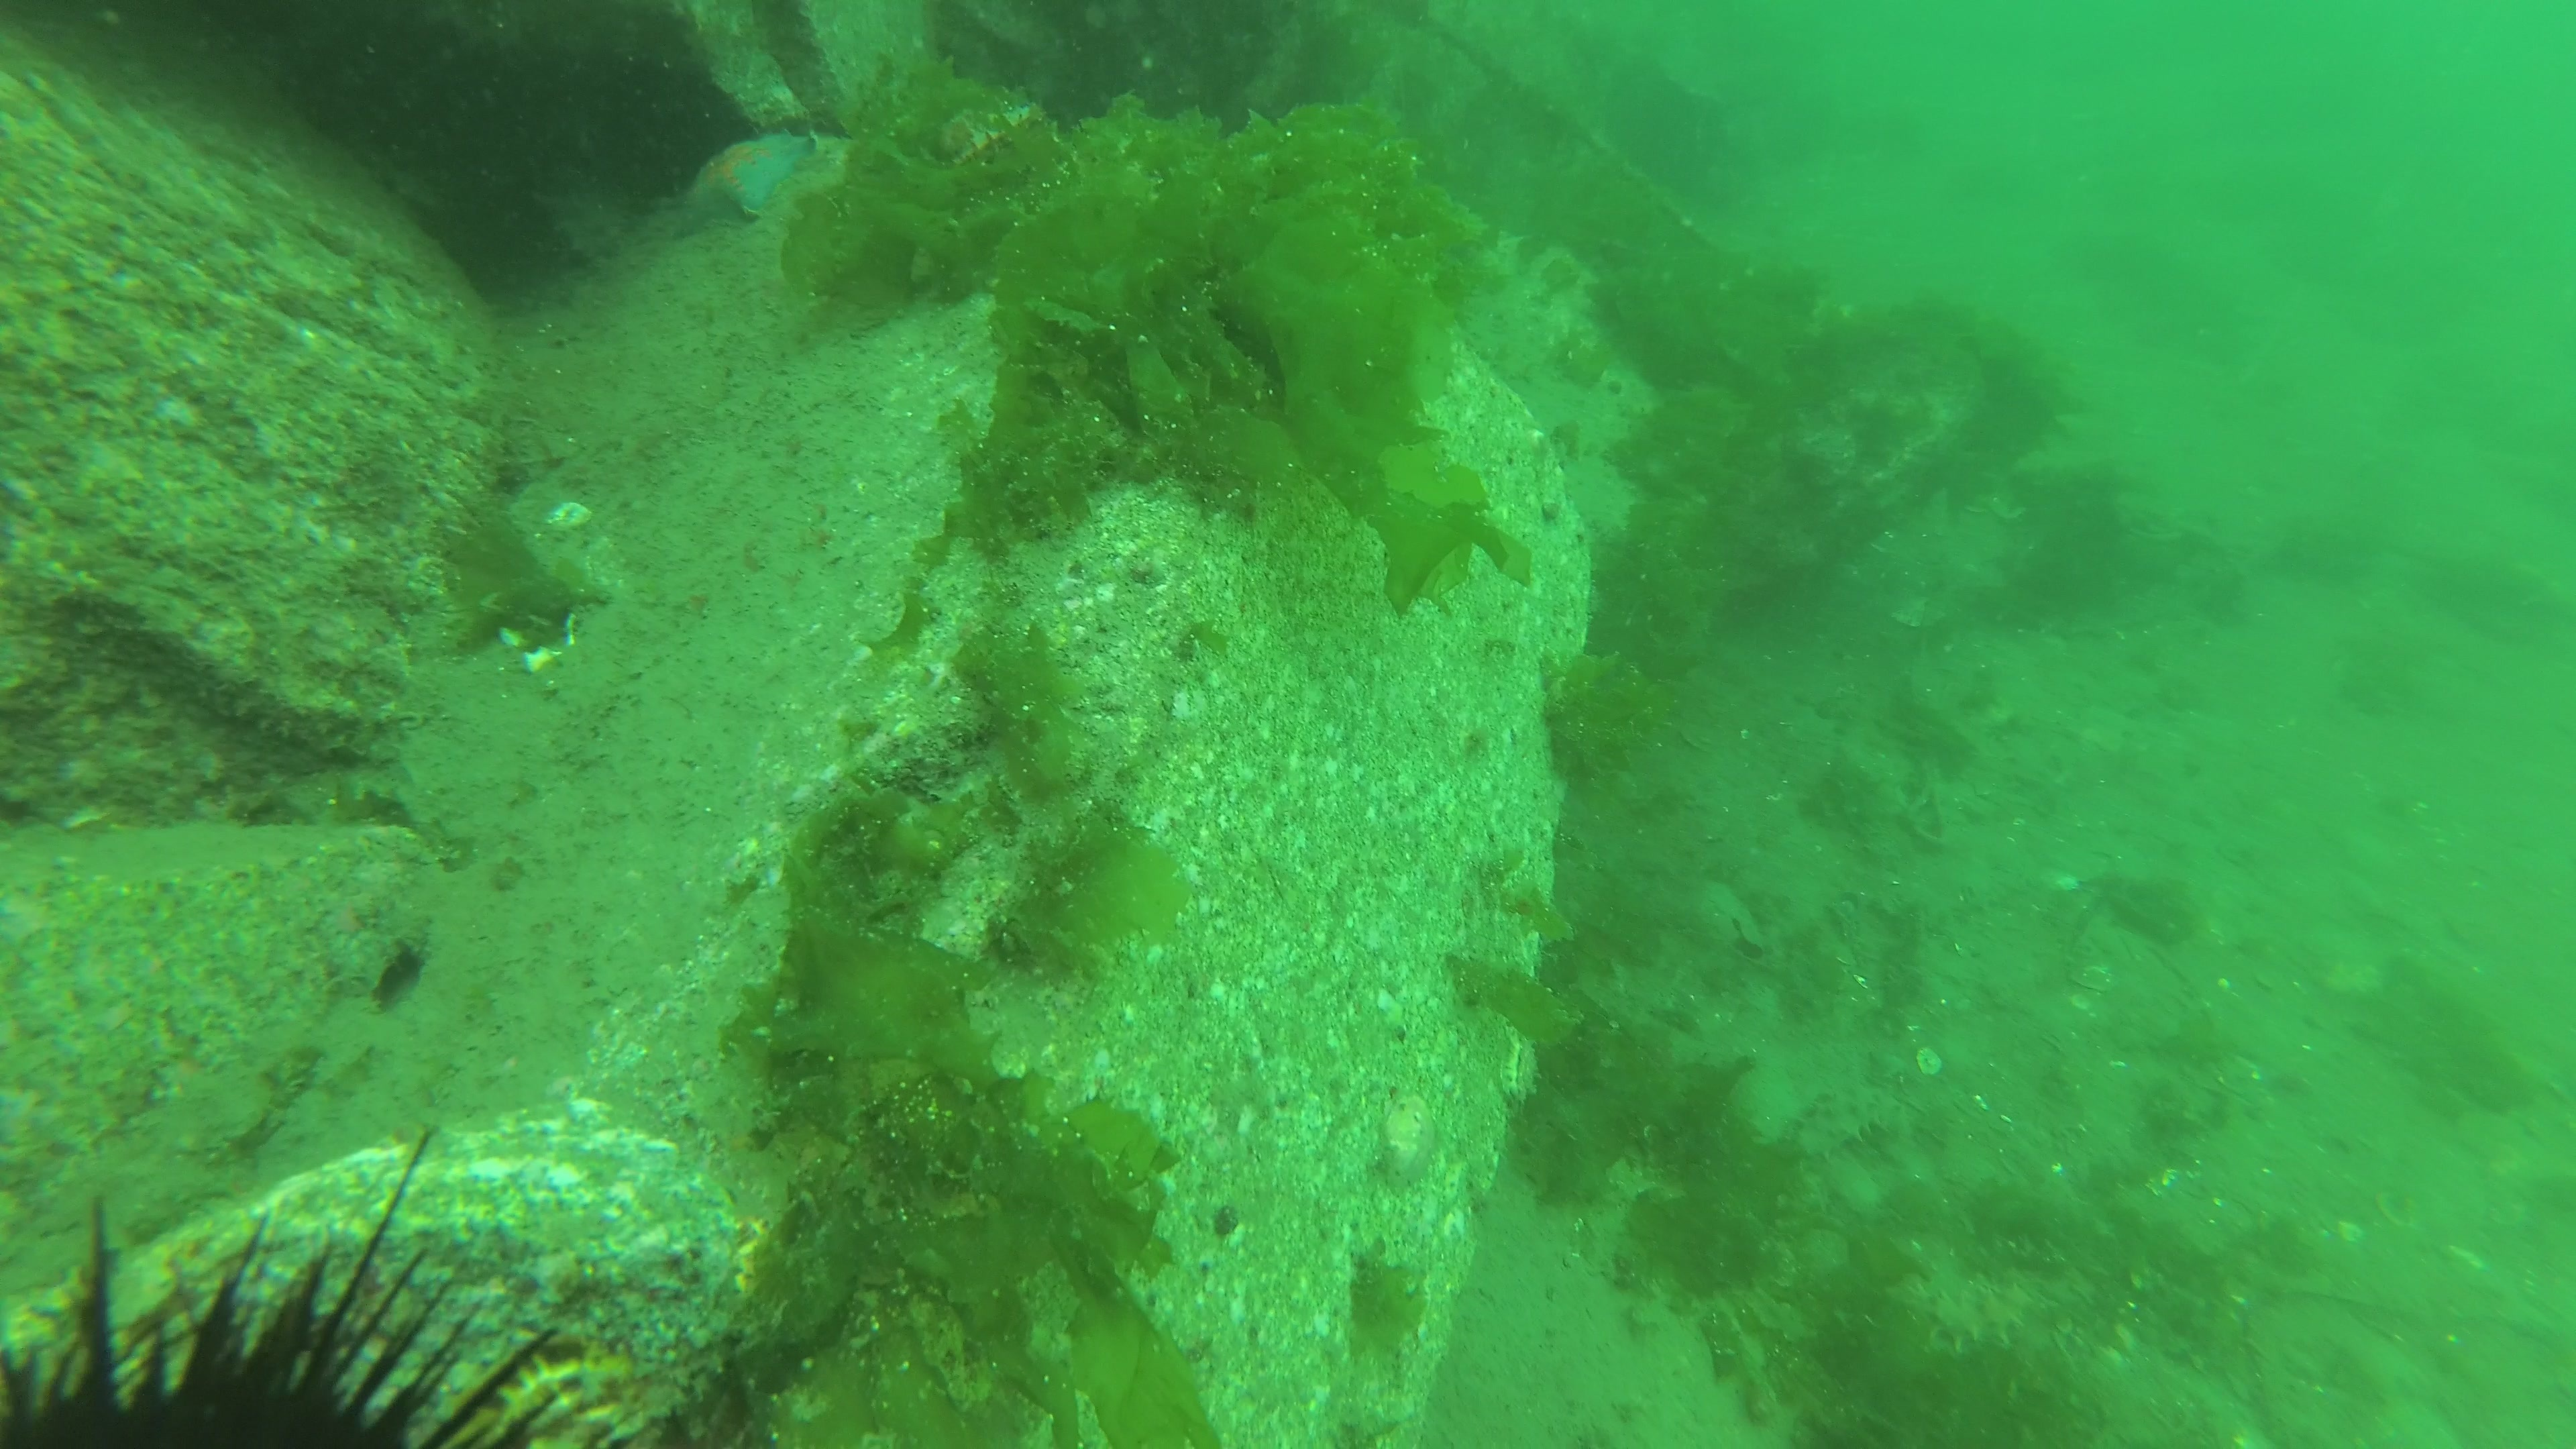echinus: (5, 1136, 637, 1449)
holothurian: (1783, 1074, 1911, 1166), (1918, 1277, 2047, 1362)
starfish: (674, 126, 821, 226)
